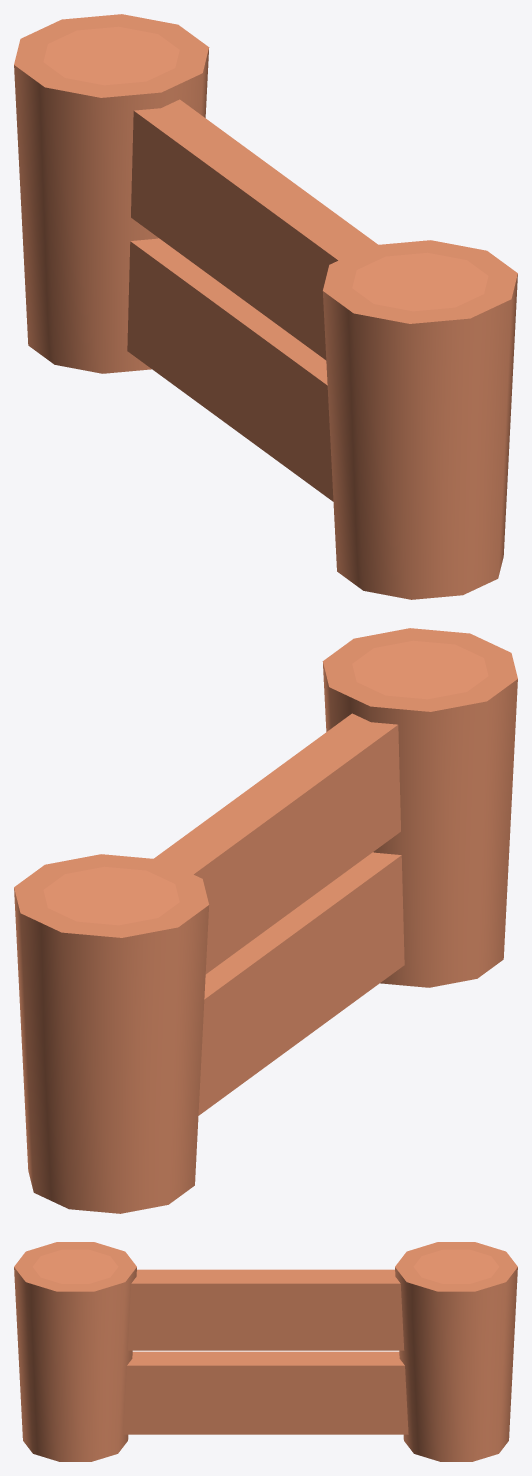
File: Fence_A.fbx
3 renders of one model, top to bottom at view 1: azimuth 30°, elevation 25°; view 2: azimuth 150°, elevation 25°; view 3: azimuth 270°, elevation 25°, orthographic. The views are drawn at different scales.
Visible parts, largest first — view 1: Fence_A; view 2: Fence_A; view 3: Fence_A.
Boxes of the visible parts, x1=… form: Fence_A: x1=14, y1=14, x2=517, y2=599; Fence_A: x1=14, y1=628, x2=517, y2=1213; Fence_A: x1=14, y1=1242, x2=517, y2=1461.
Bounding box in the file's own units: 46.47 × 76.18 × 200.
